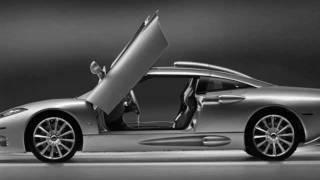car: (1, 11, 320, 163)
